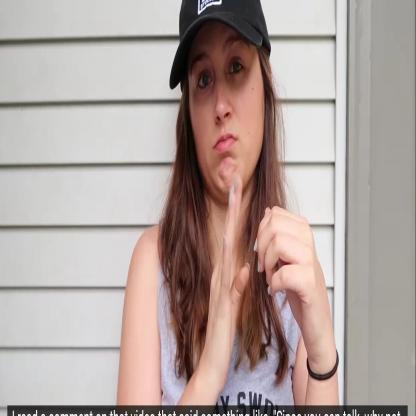Talk: (174, 0, 266, 416)
